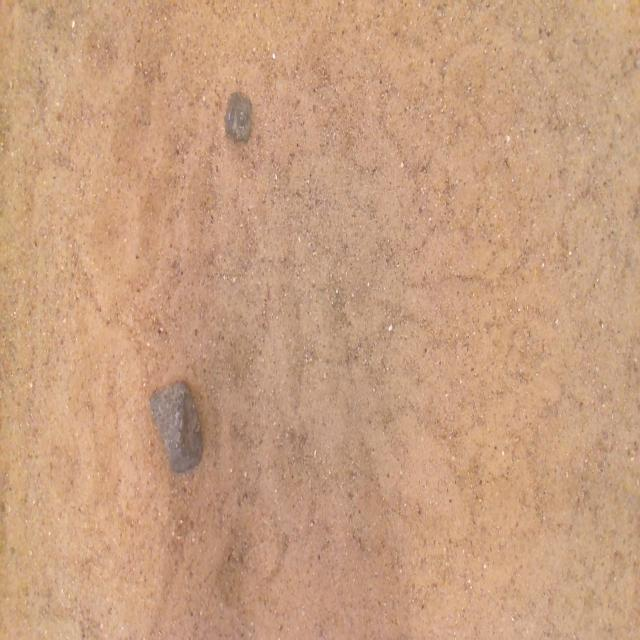rock: (149, 382, 202, 472), (225, 92, 251, 140)
